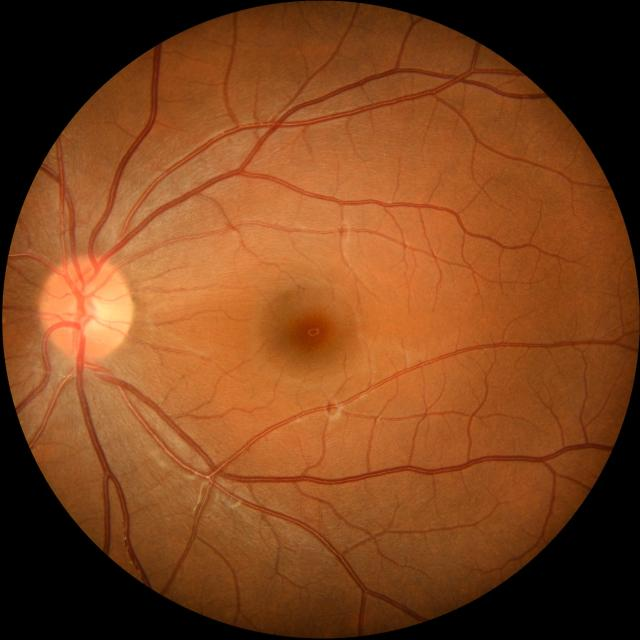OC: (70, 288, 110, 336)
OD: (40, 256, 132, 361)
